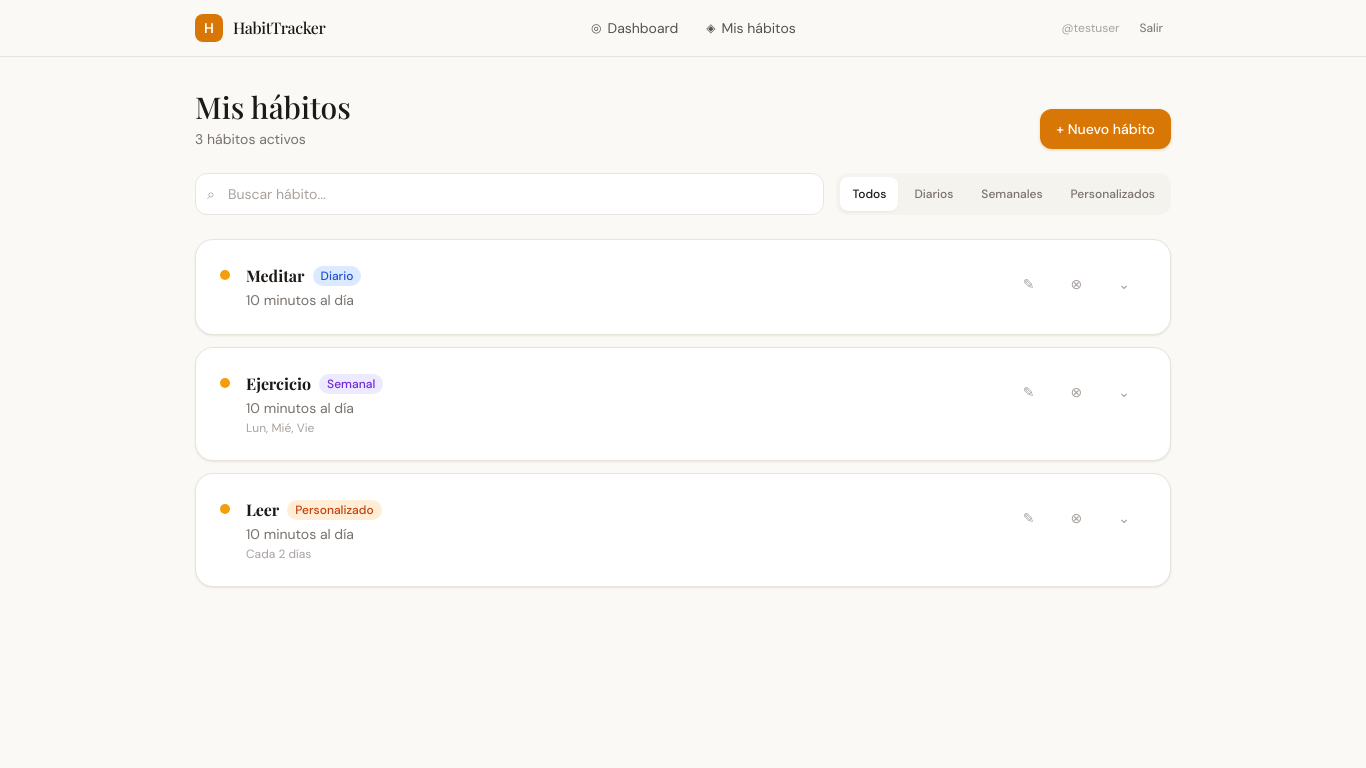
HabitsPage — filtros de frecuencia › filtro "Diarios" solo muestra hábitos DAILY
The image size is (1366, 768).
Expected: the heading "Meditar" is shown, [246, 264, 305, 288]
Click the button "Diarios": [934, 194] box [902, 177, 965, 211]
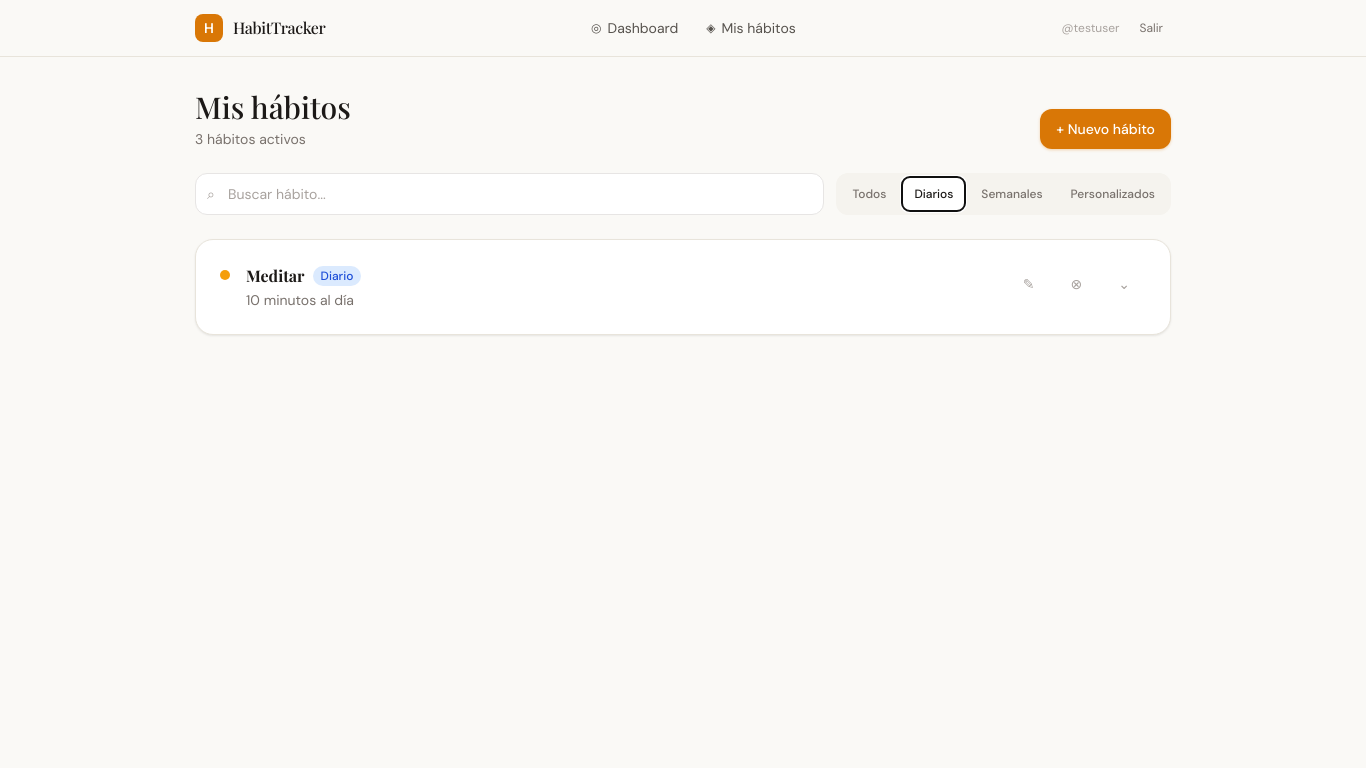
Expected: the heading "Meditar" is shown, [246, 264, 305, 288]
Now the heading "Ejercicio" is gone
Now the heading "Leer" is gone
